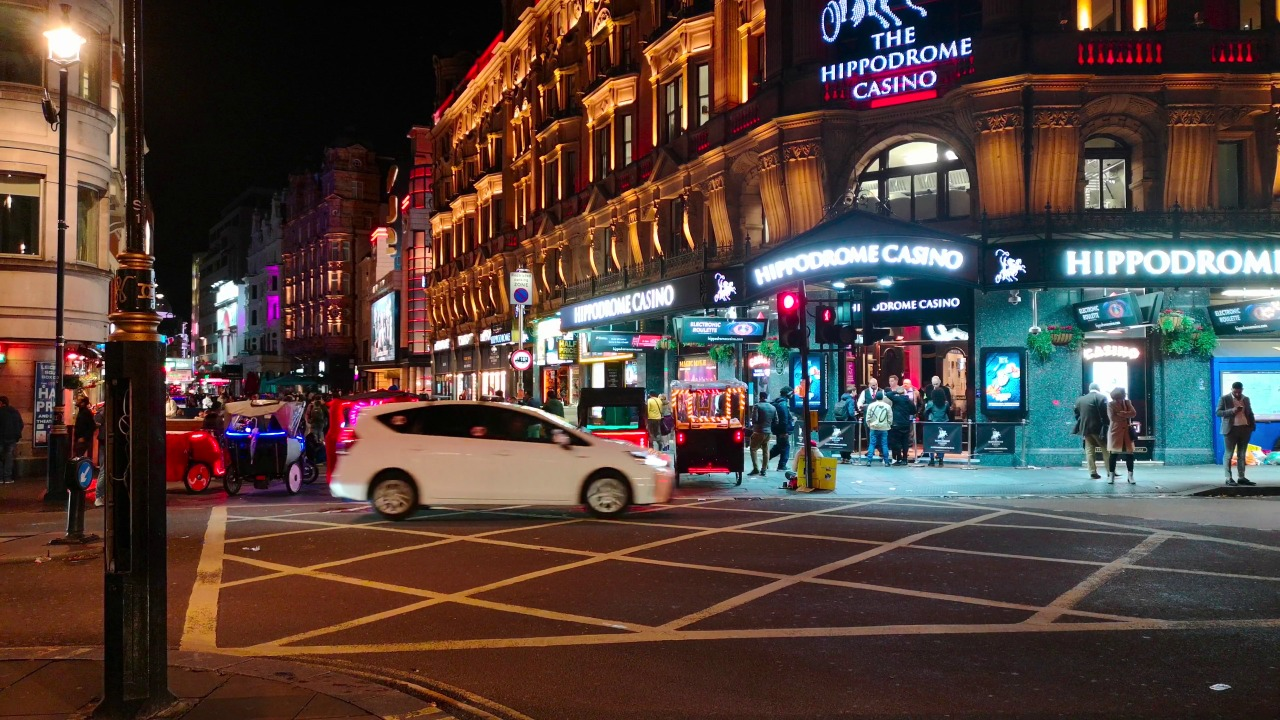person: (1070, 379, 1121, 481), (1215, 378, 1259, 488), (1108, 384, 1138, 483), (784, 437, 832, 496), (884, 385, 918, 467), (771, 379, 798, 472), (866, 391, 898, 466), (751, 391, 777, 477), (1, 395, 25, 488), (91, 398, 111, 508), (923, 388, 949, 468), (836, 383, 860, 465), (71, 395, 96, 461), (644, 385, 660, 447), (657, 395, 673, 450), (318, 394, 337, 439), (896, 374, 921, 407), (203, 394, 223, 429), (306, 396, 323, 437), (541, 390, 566, 417), (922, 374, 954, 395), (862, 376, 887, 401), (517, 387, 541, 412), (882, 370, 902, 390)
